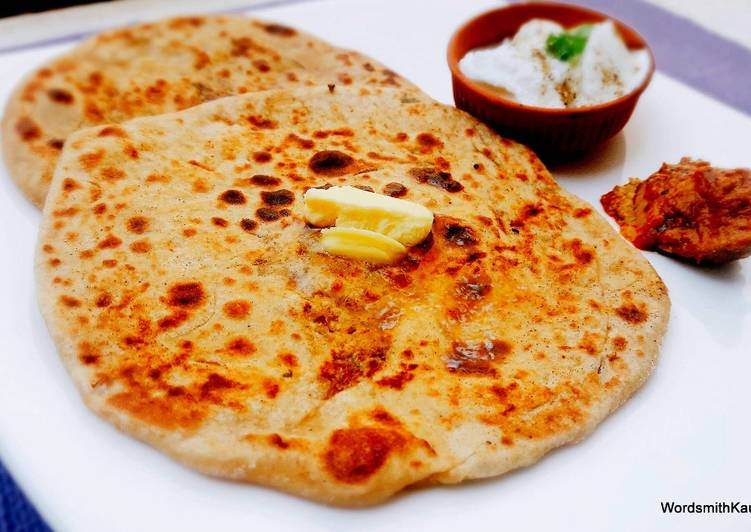aloo_paratha: (1, 12, 671, 512)
